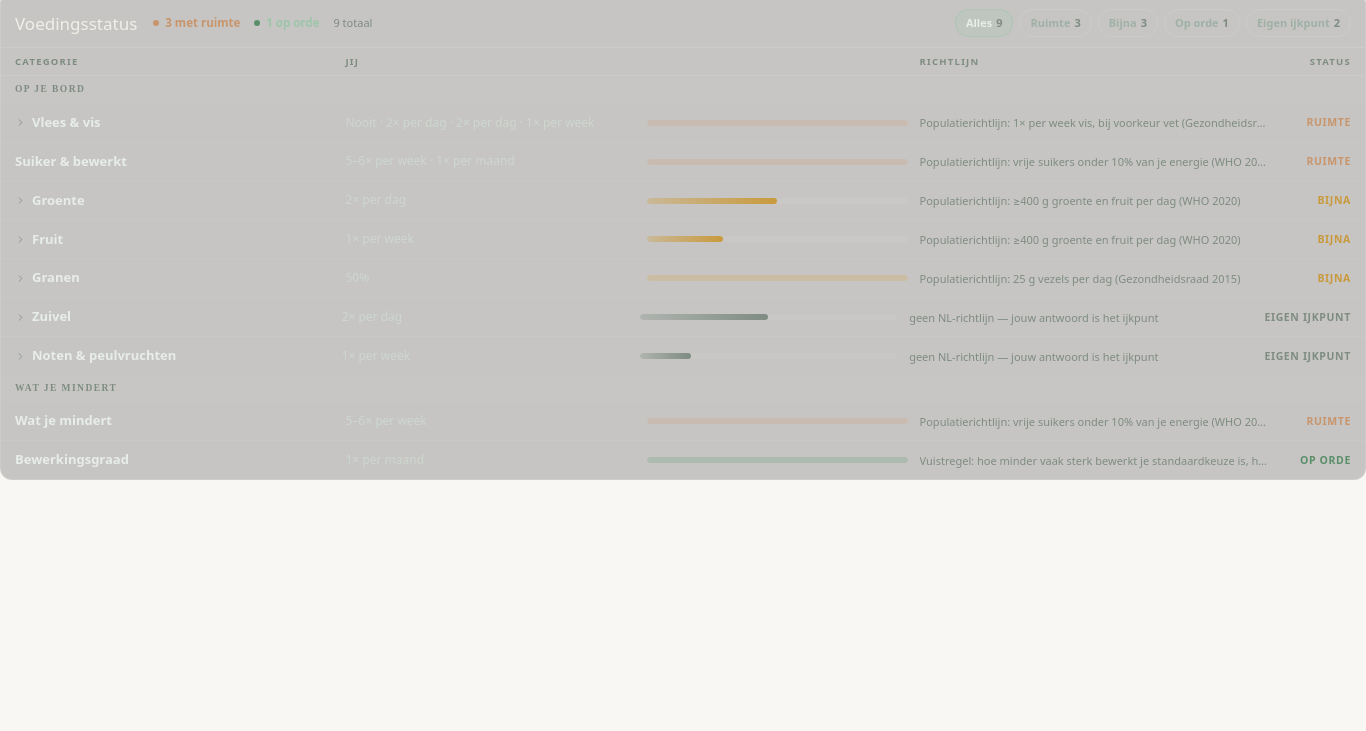
VoedingsstatusTabel › houdt één categorie tegelijk open
Click the button "Noten" at (683, 356), box left=1, top=337, right=1365, bottom=375
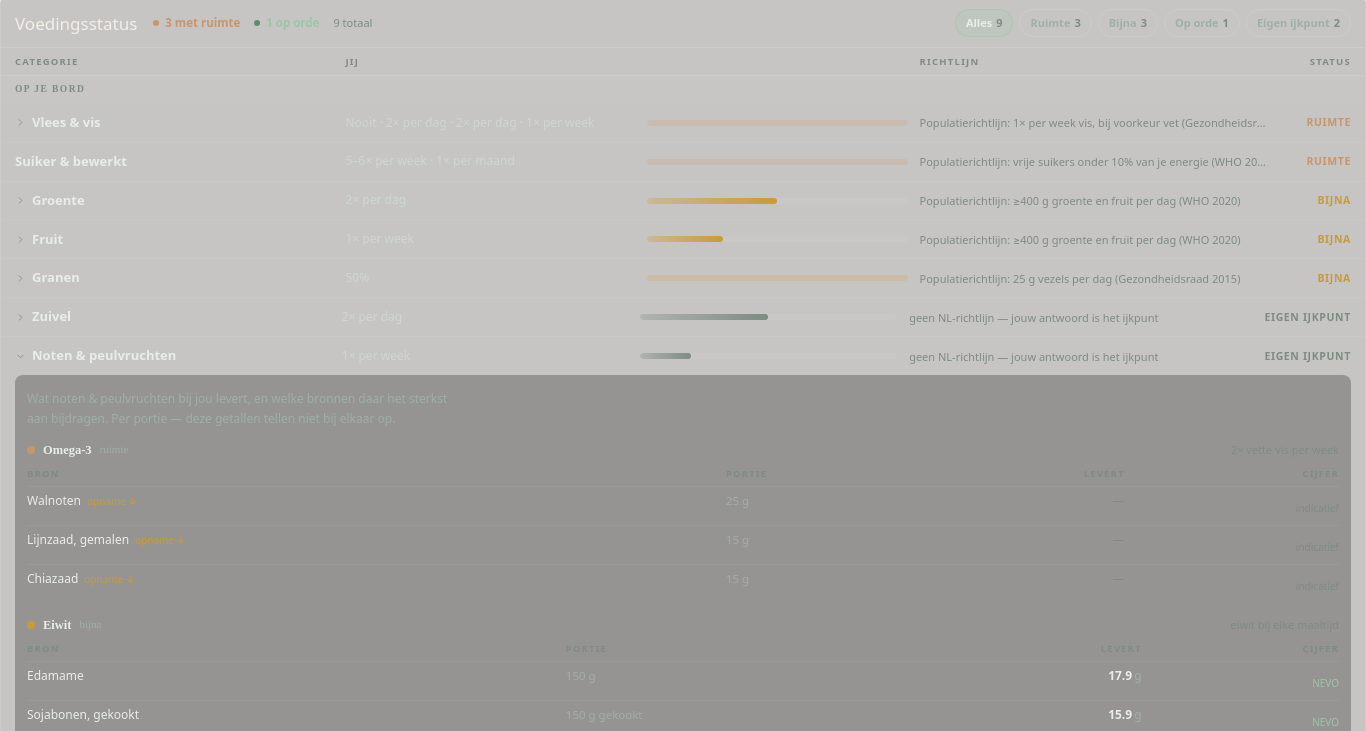
Click the button "Granen" at (683, 278), box left=1, top=259, right=1365, bottom=297
(page scrolled)
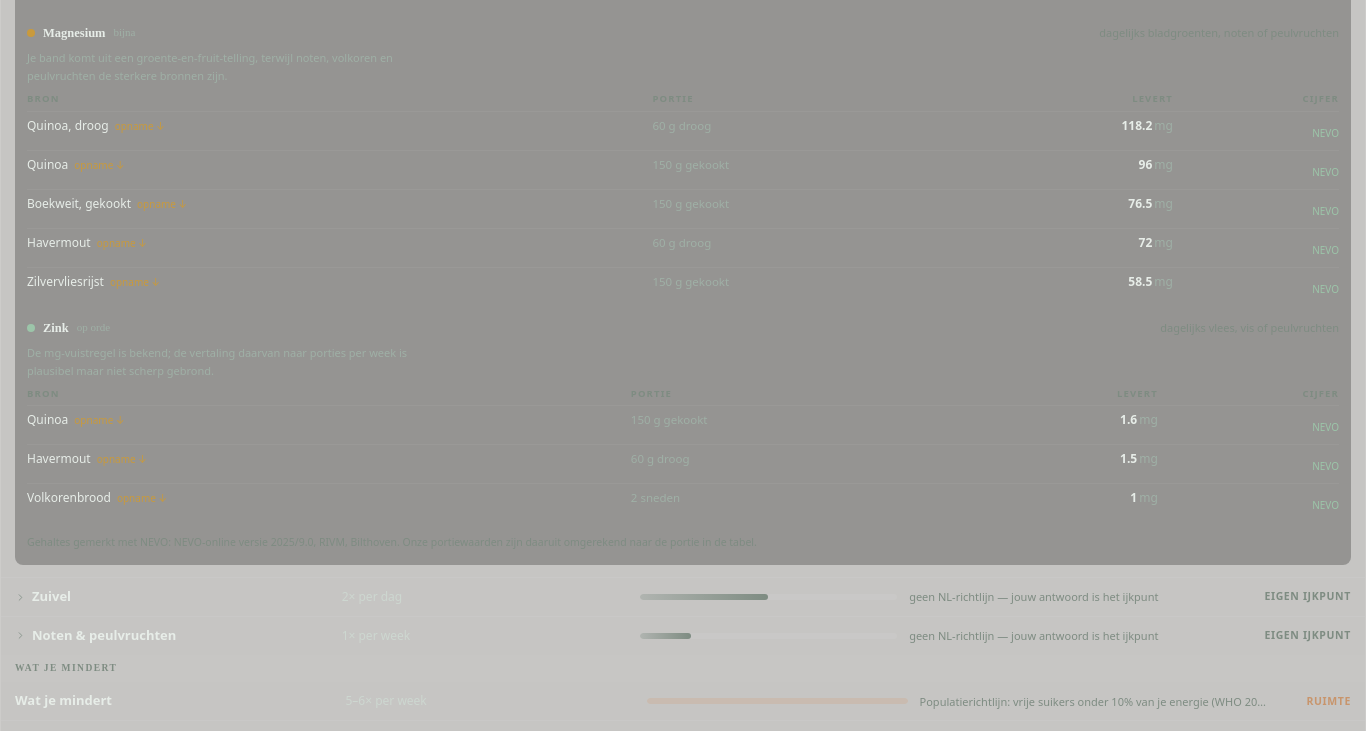
Expected: the button "Noten" is collapsed, left=1, top=617, right=1365, bottom=655
